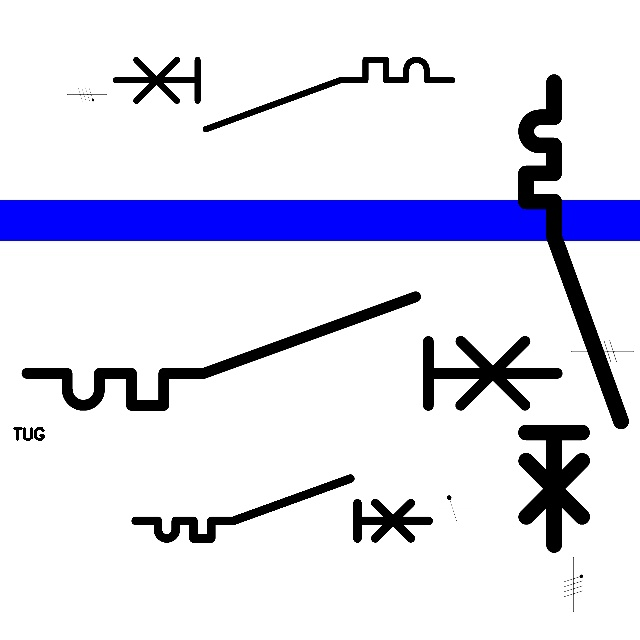interruptor_termomagnetico: (13, 283, 570, 419), (514, 70, 633, 557), (107, 51, 461, 137), (128, 471, 436, 546)
